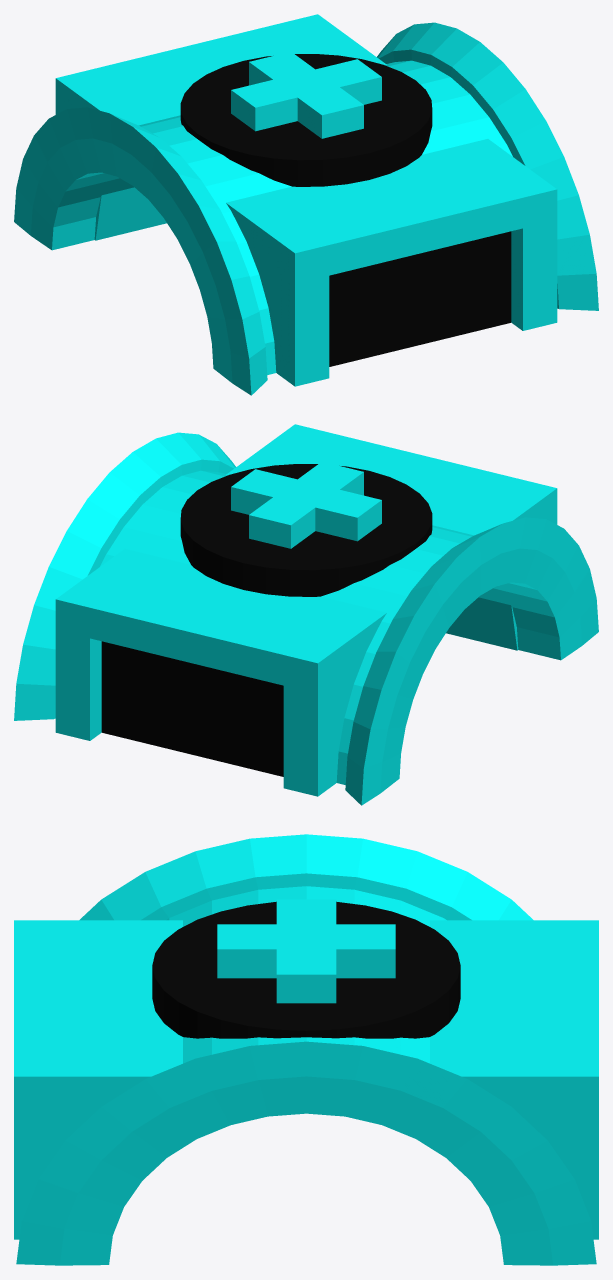
Rendered from AddGate.fbx.
3 views of the same model, one above another, from view 1: azimuth 30°, elevation 25°; view 2: azimuth 150°, elevation 25°; view 3: azimuth 270°, elevation 25° (orthographic). The views are drawn at different scales.
Parts seen in each view (by area): view 1: Cylinder; view 2: Cylinder; view 3: Cylinder.
Part boxes in pixels (bbox=[...]): Cylinder: bbox=[14, 14, 598, 395]; Cylinder: bbox=[14, 424, 598, 805]; Cylinder: bbox=[14, 834, 598, 1265].
Bounding box in the file's own units: 200 × 100 × 237.
